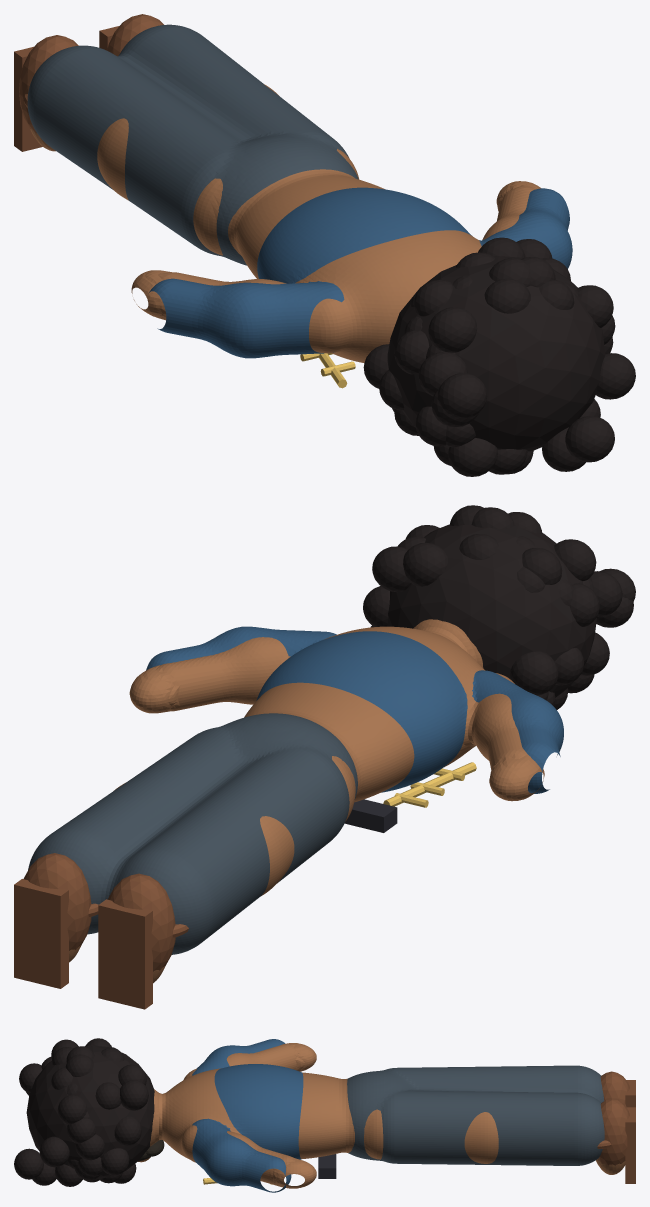
Rendered from aboki_male_rider_stylized_v2.glb.
3 views of the same model, one above another, from view 1: azimuth 30°, elevation 25°; view 2: azimuth 150°, elevation 25°; view 3: azimuth 270°, elevation 25° (orthographic). The views are drawn at different scales.
Parts seen in each view (by area): view 1: world; view 2: world; view 3: world.
Boxes of the visible parts, x1,y1,x2,y2 form: world: (14,14,635,476); world: (14,505,635,1009); world: (14,1038,635,1192).
Bounding box in the file's own units: 1.7 × 0.8351 × 3.48.
